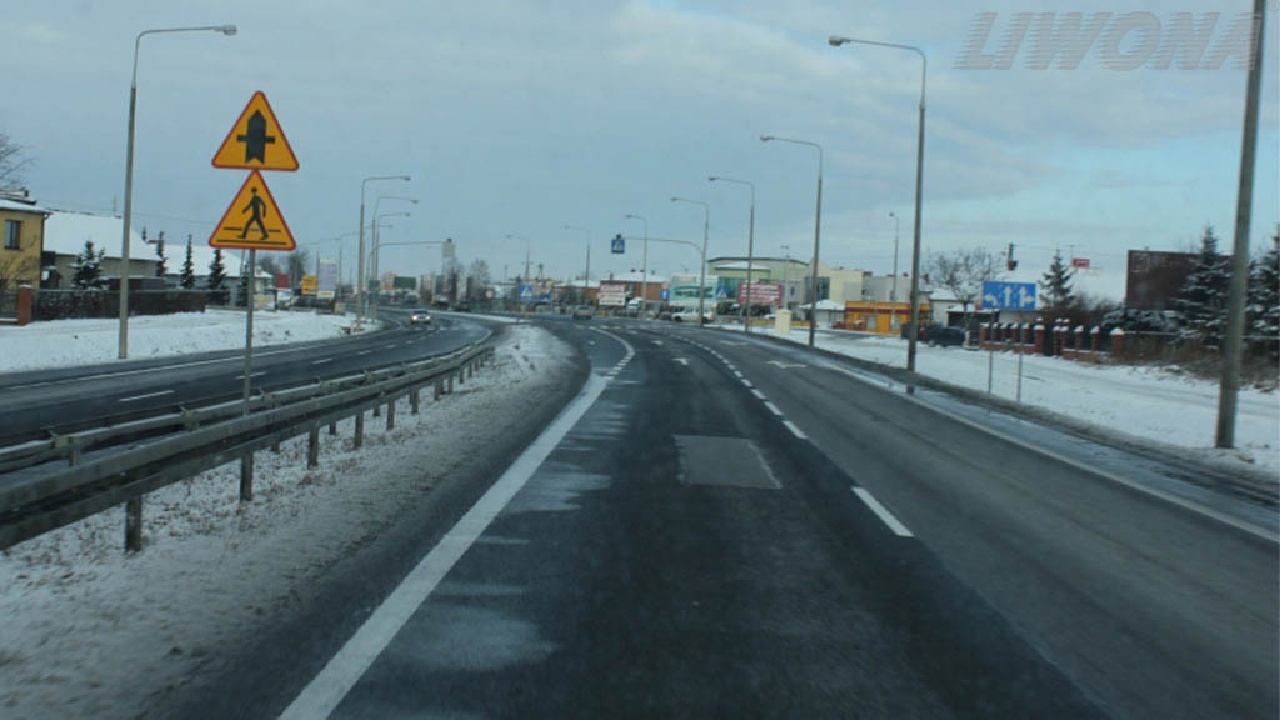A16: (210, 171, 297, 252)
A6a: (212, 90, 302, 171)
